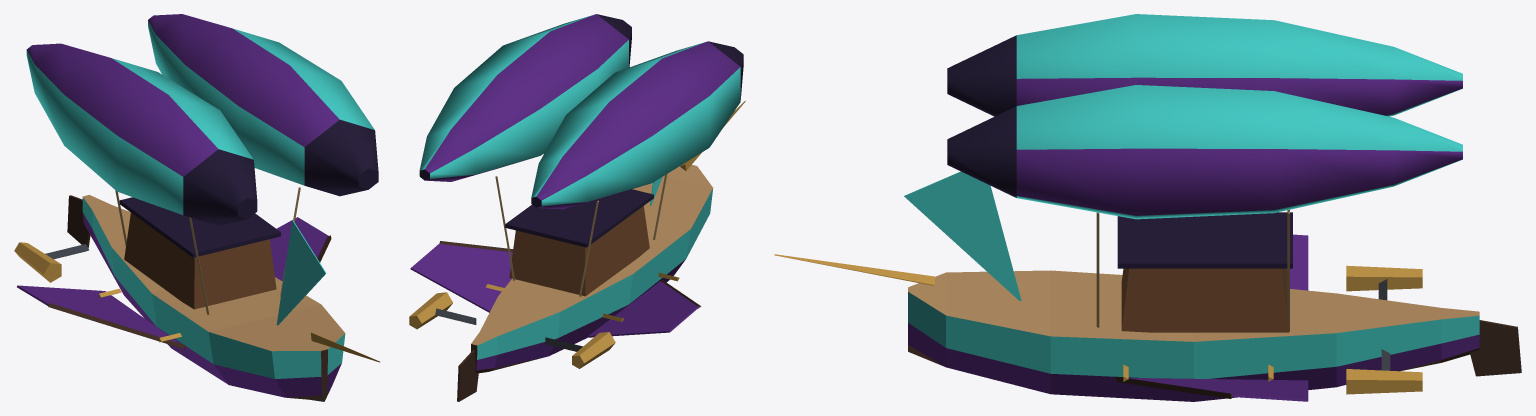
The model's file is SM_Ship_SmugglerRunner_LQ.glb.
3 views of the same model, side by side, from view 1: azimuth 30°, elevation 25°; view 2: azimuth 150°, elevation 25°; view 3: azimuth 270°, elevation 25° (orthographic). The views are drawn at different scales.
Visible parts, largest first — view 1: SM_Ship_SmugglerRunner_LQ; view 2: SM_Ship_SmugglerRunner_LQ; view 3: SM_Ship_SmugglerRunner_LQ.
Boxes of the visible parts, x1,y1,x2,y2 form: SM_Ship_SmugglerRunner_LQ: (14, 14, 380, 401); SM_Ship_SmugglerRunner_LQ: (409, 14, 745, 401); SM_Ship_SmugglerRunner_LQ: (774, 14, 1521, 401).
Bounding box in the file's own units: 10.3 × 9.95 × 19.6.
1 material, 1 textured.
